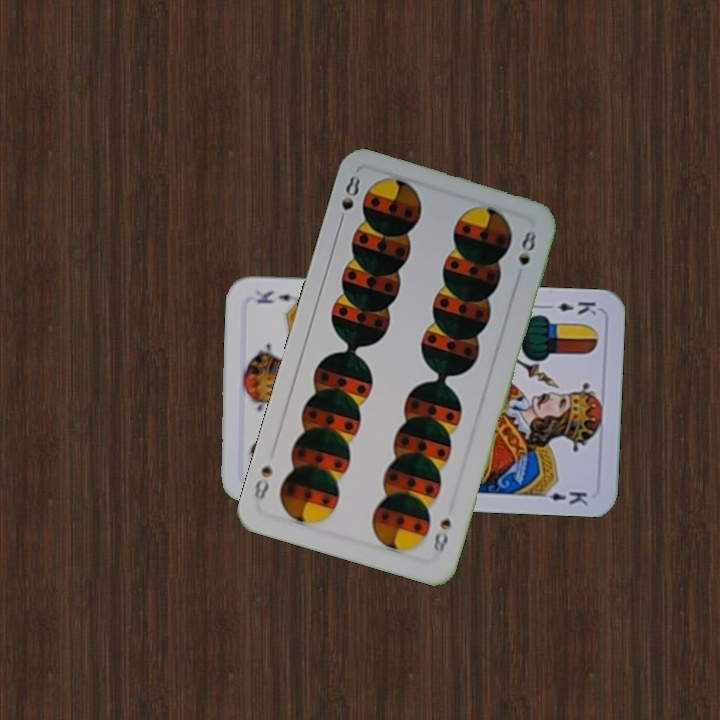EK: (540, 297, 599, 318)
S8: (334, 171, 363, 229), (429, 514, 454, 557)
